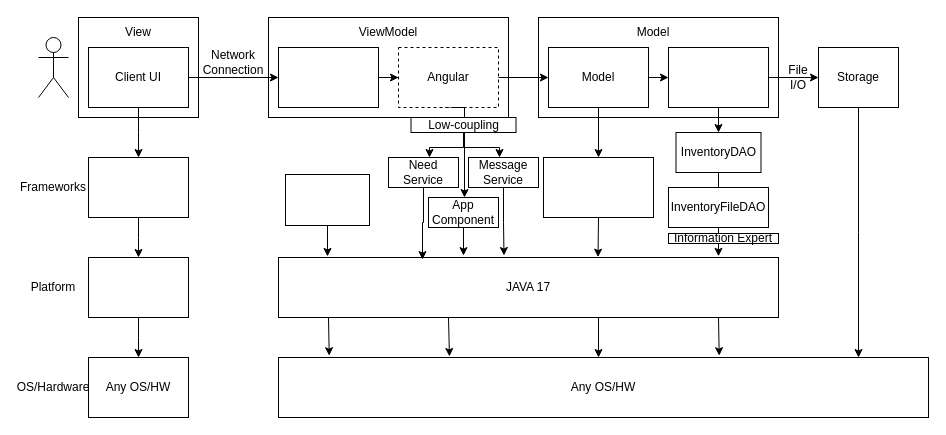
Image size: 946x435. Some labels were removed from this diagram. Each missing label, with the centre of its shape:
"Angular & TypeScript" belongs at (x=138, y=187).
"Any Browser" belongs at (x=138, y=287).
"Inventory" belongs at (x=598, y=187).
"Persistance" belongs at (x=718, y=77).
"Rest API (Controller)" belongs at (x=328, y=77).
"Spring Boot (Embedded Tomcat)" belongs at (x=327, y=200).
"User" belongs at (x=53, y=67).
